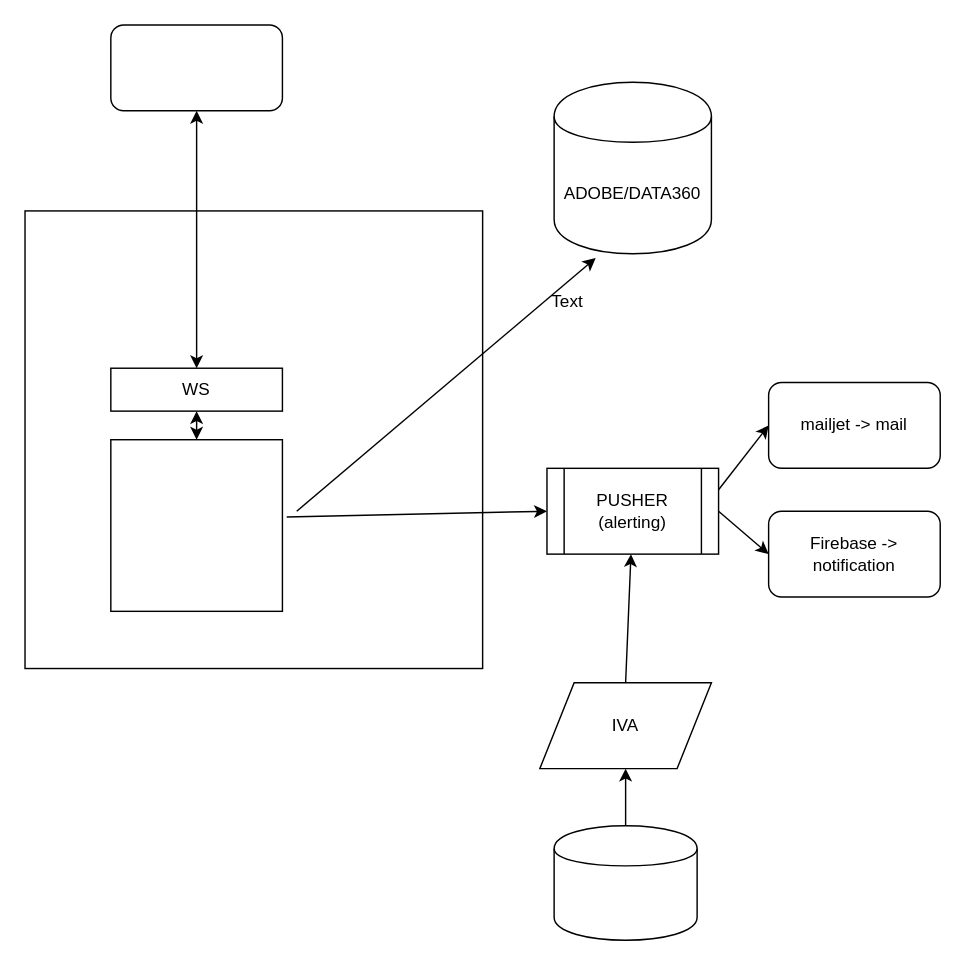
Image size: 965x965. Some labels were removed from this diagram. The shapes that lost their labels are listed below. From the top down, each one's centre as x and y in pixels, then its label:
At [195,67]: "MEDIA".
At [195,524]: "prodPR".
At [625,882]: "perturbation".
